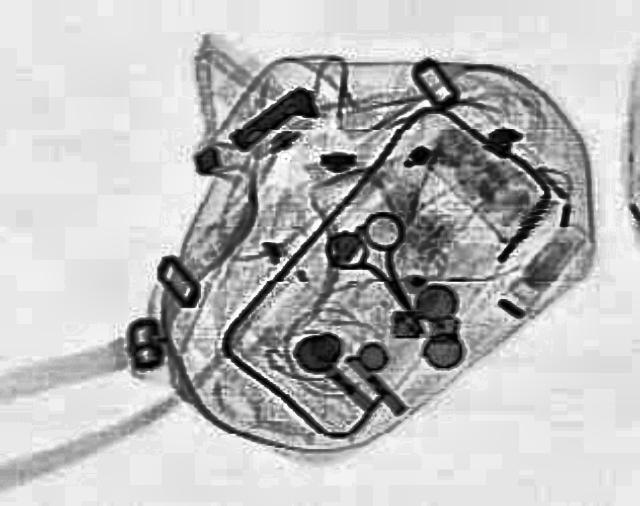Scissors: (307, 206, 459, 340)
